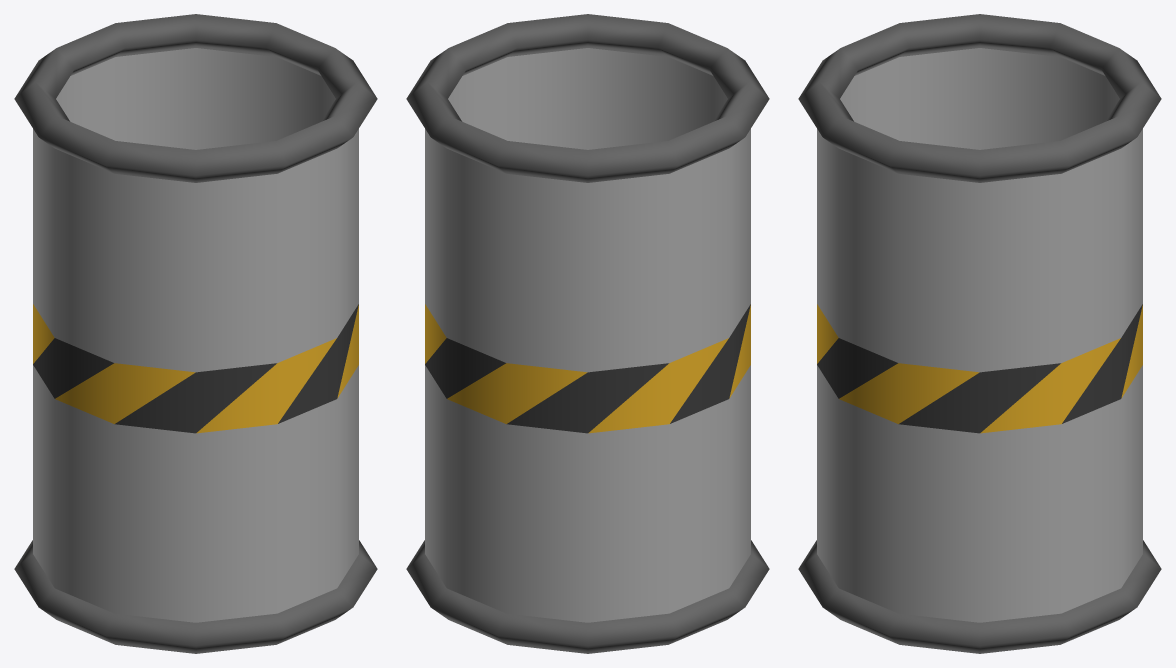
File: pipe_011.fbx
3 views of the same model, side by side, from view 1: azimuth 30°, elevation 25°; view 2: azimuth 150°, elevation 25°; view 3: azimuth 270°, elevation 25° (orthographic).
Parts seen in each view (by area): view 1: pipe_011; view 2: pipe_011; view 3: pipe_011.
Part boxes in pixels (left/top/right/bottom): pipe_011: left=14, top=14, right=377, bottom=653; pipe_011: left=406, top=14, right=769, bottom=653; pipe_011: left=798, top=14, right=1161, bottom=653.
Bounding box in the file's own units: 214 × 214 × 327.
